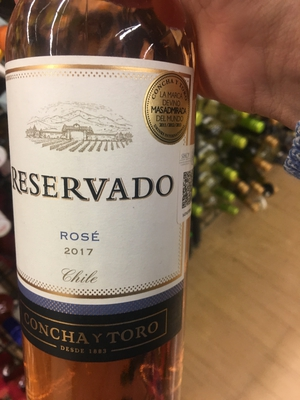reservado rose: (4, 13, 197, 400)
